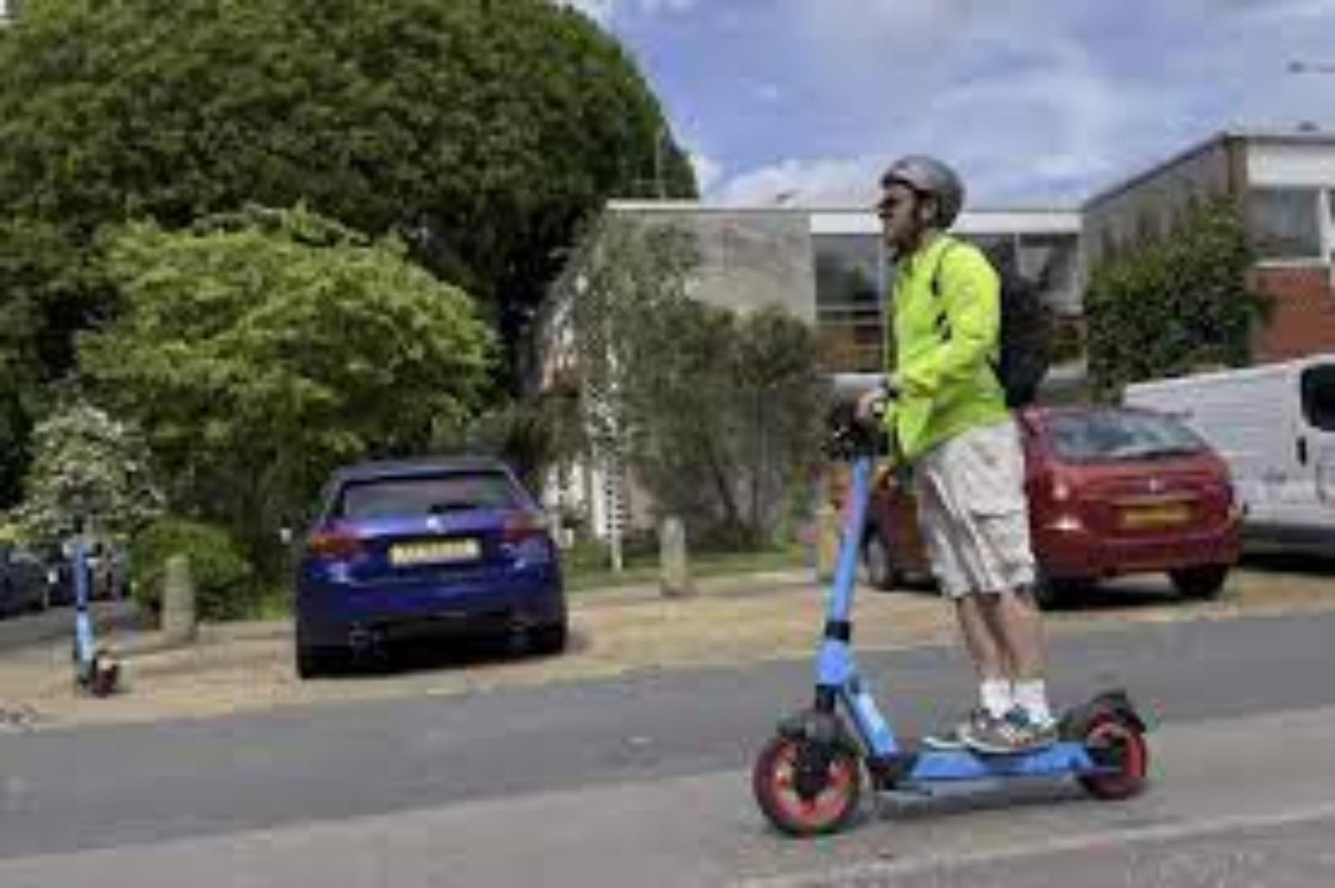helmet: (861, 144, 983, 261)
human: (864, 154, 1026, 750)
kickboard: (741, 709, 1151, 836)
